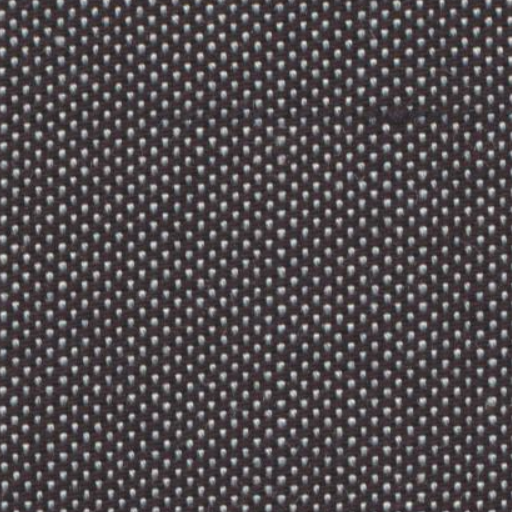TuoSha: (34, 94, 497, 134)
